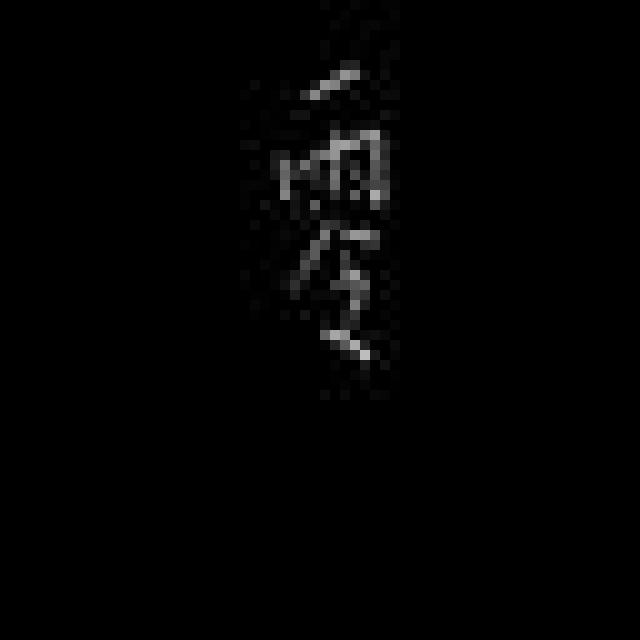0 -zero-: (263, 51, 407, 385)
